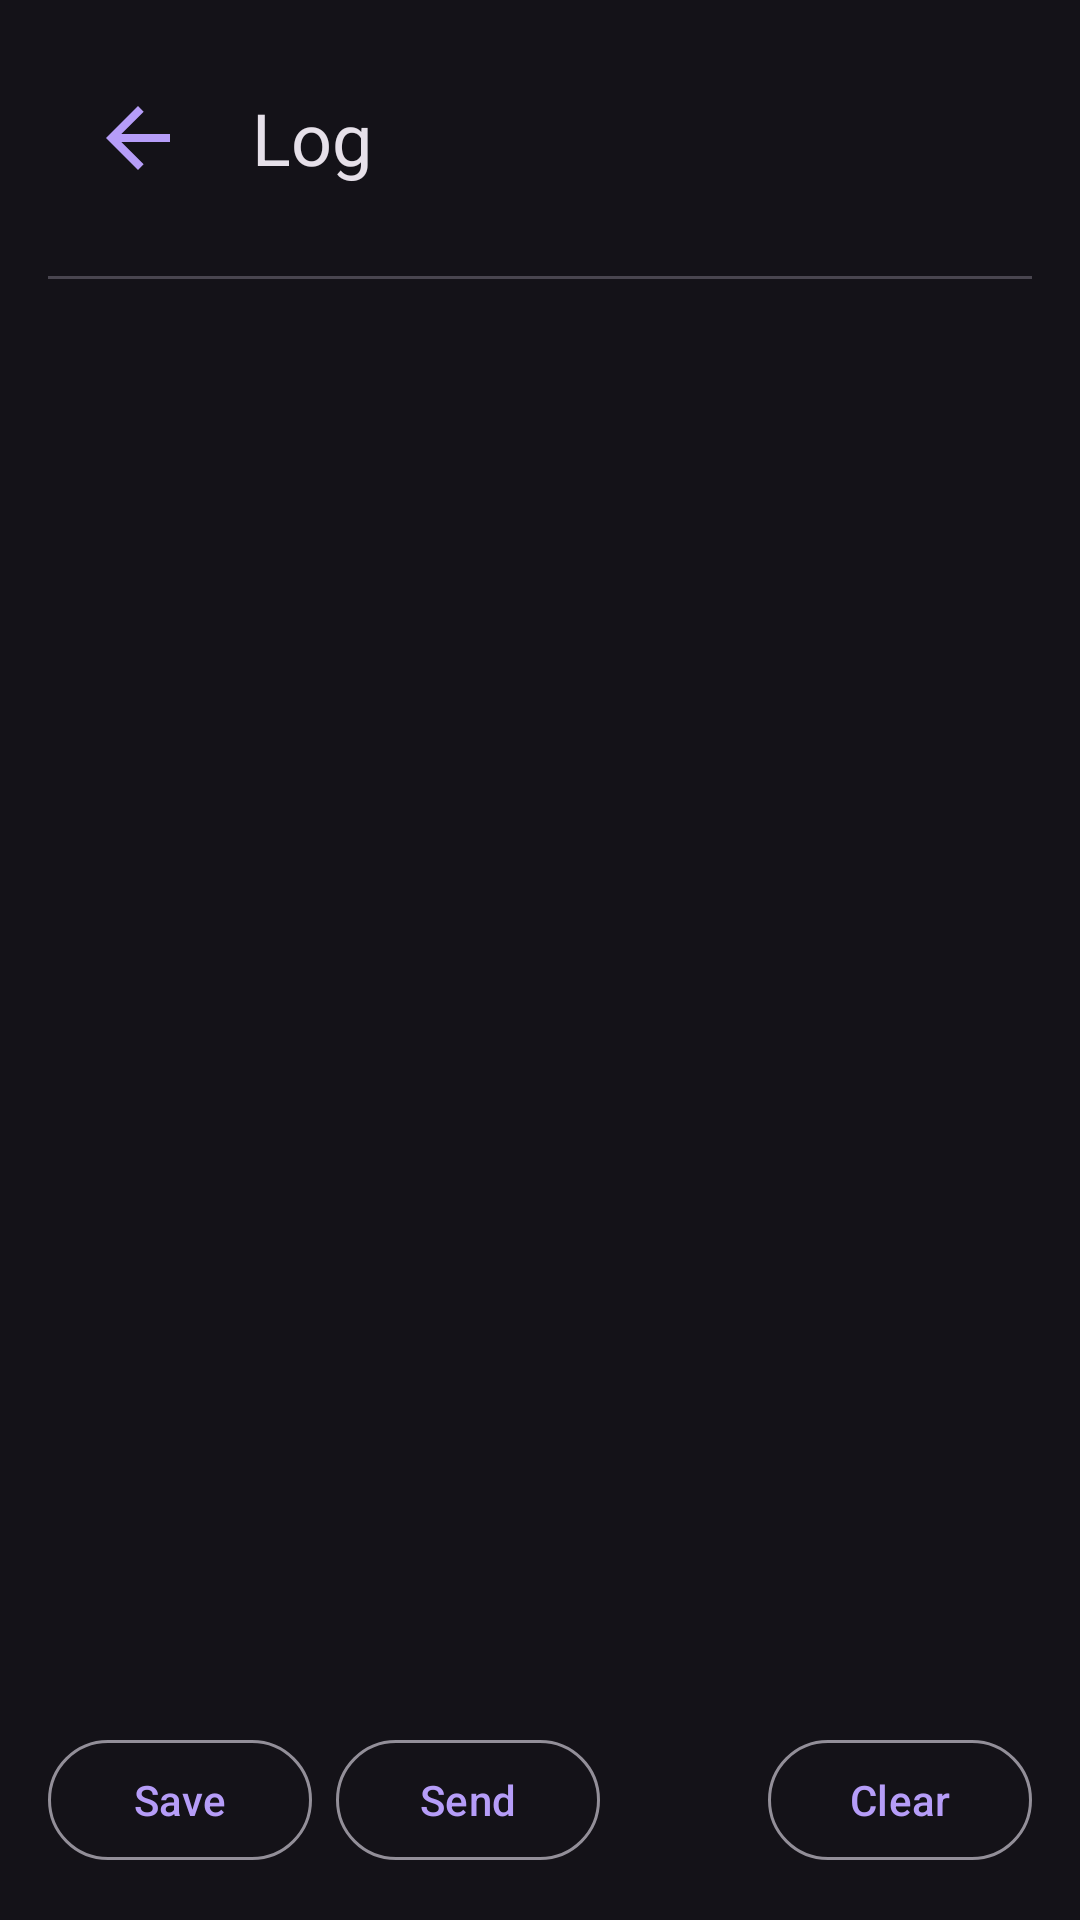

Screen size 1080x1920. Icon name, then its box in pixels as box(x1, y1, x2, y2):
Back: box(106, 106, 170, 170)
